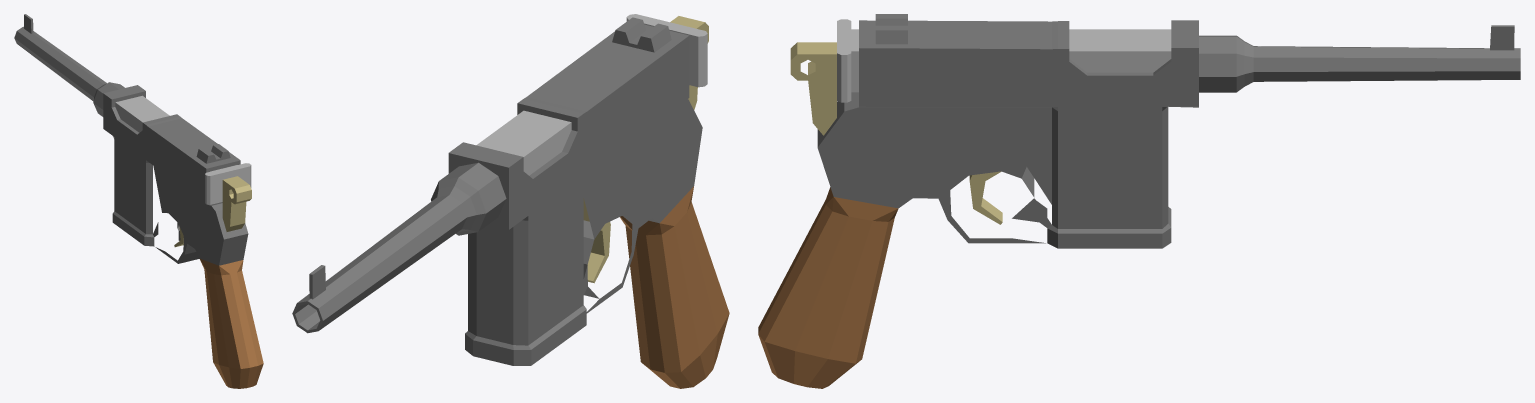
3 views of the same model, side by side, from view 1: azimuth 30°, elevation 25°; view 2: azimuth 150°, elevation 25°; view 3: azimuth 270°, elevation 25° (orthographic). The views are drawn at different scales.
Visible parts, largest first — view 1: Mauser_cd4415, Mauser_27371e, Mauser_236cd7, Mauser; view 2: Mauser_cd4415, Mauser_27371e, Mauser_236cd7, Mauser; view 3: Mauser_cd4415, Mauser_27371e, Mauser_236cd7, Mauser.
Boxes of the visible parts, box(x1,y1,x2,y2) form: Mauser_cd4415: box(14, 14, 248, 265); Mauser_27371e: box(199, 258, 263, 388); Mauser_236cd7: box(115, 95, 251, 204); Mauser: box(174, 176, 251, 247); Mauser_cd4415: box(292, 17, 702, 365); Mauser_27371e: box(620, 186, 729, 388); Mauser_236cd7: box(476, 14, 707, 175); Mauser: box(583, 16, 708, 283); Mauser_cd4415: box(817, 14, 1520, 248); Mauser_27371e: box(758, 187, 898, 388); Mauser_236cd7: box(837, 19, 1171, 102); Mauser: box(790, 42, 1002, 224).
Size of the model in its own units: 0.111 by 0.5231 by 1.
